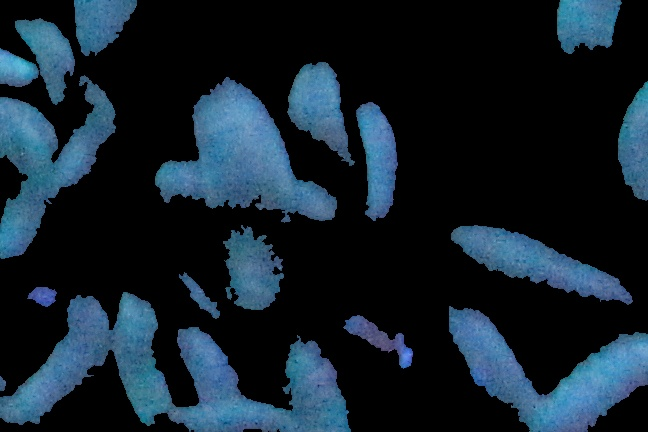larvae: (198, 82, 293, 312), (448, 222, 633, 308), (532, 306, 648, 430), (6, 294, 109, 420), (447, 302, 529, 408), (117, 287, 170, 428), (286, 58, 353, 160), (349, 101, 404, 221), (281, 334, 348, 432), (615, 79, 648, 202), (169, 399, 286, 432), (184, 334, 238, 400)
